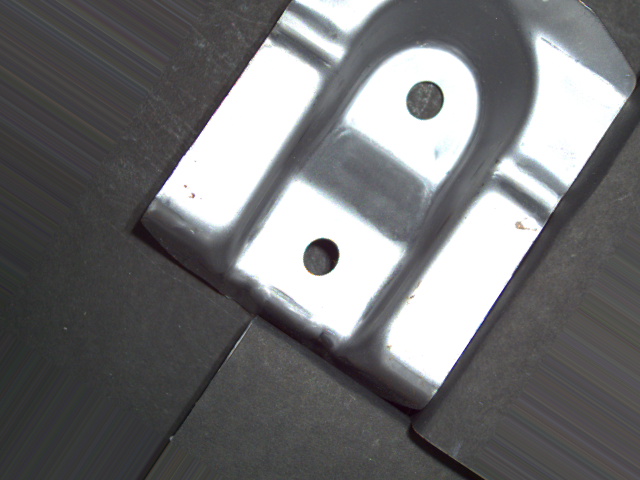defect: (405, 76, 448, 123)
